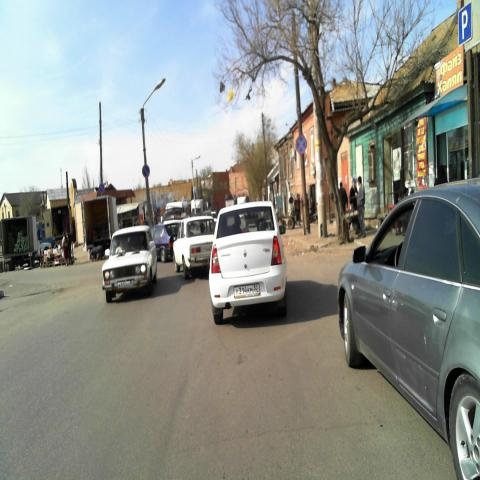3_28: (142, 164, 150, 180)
